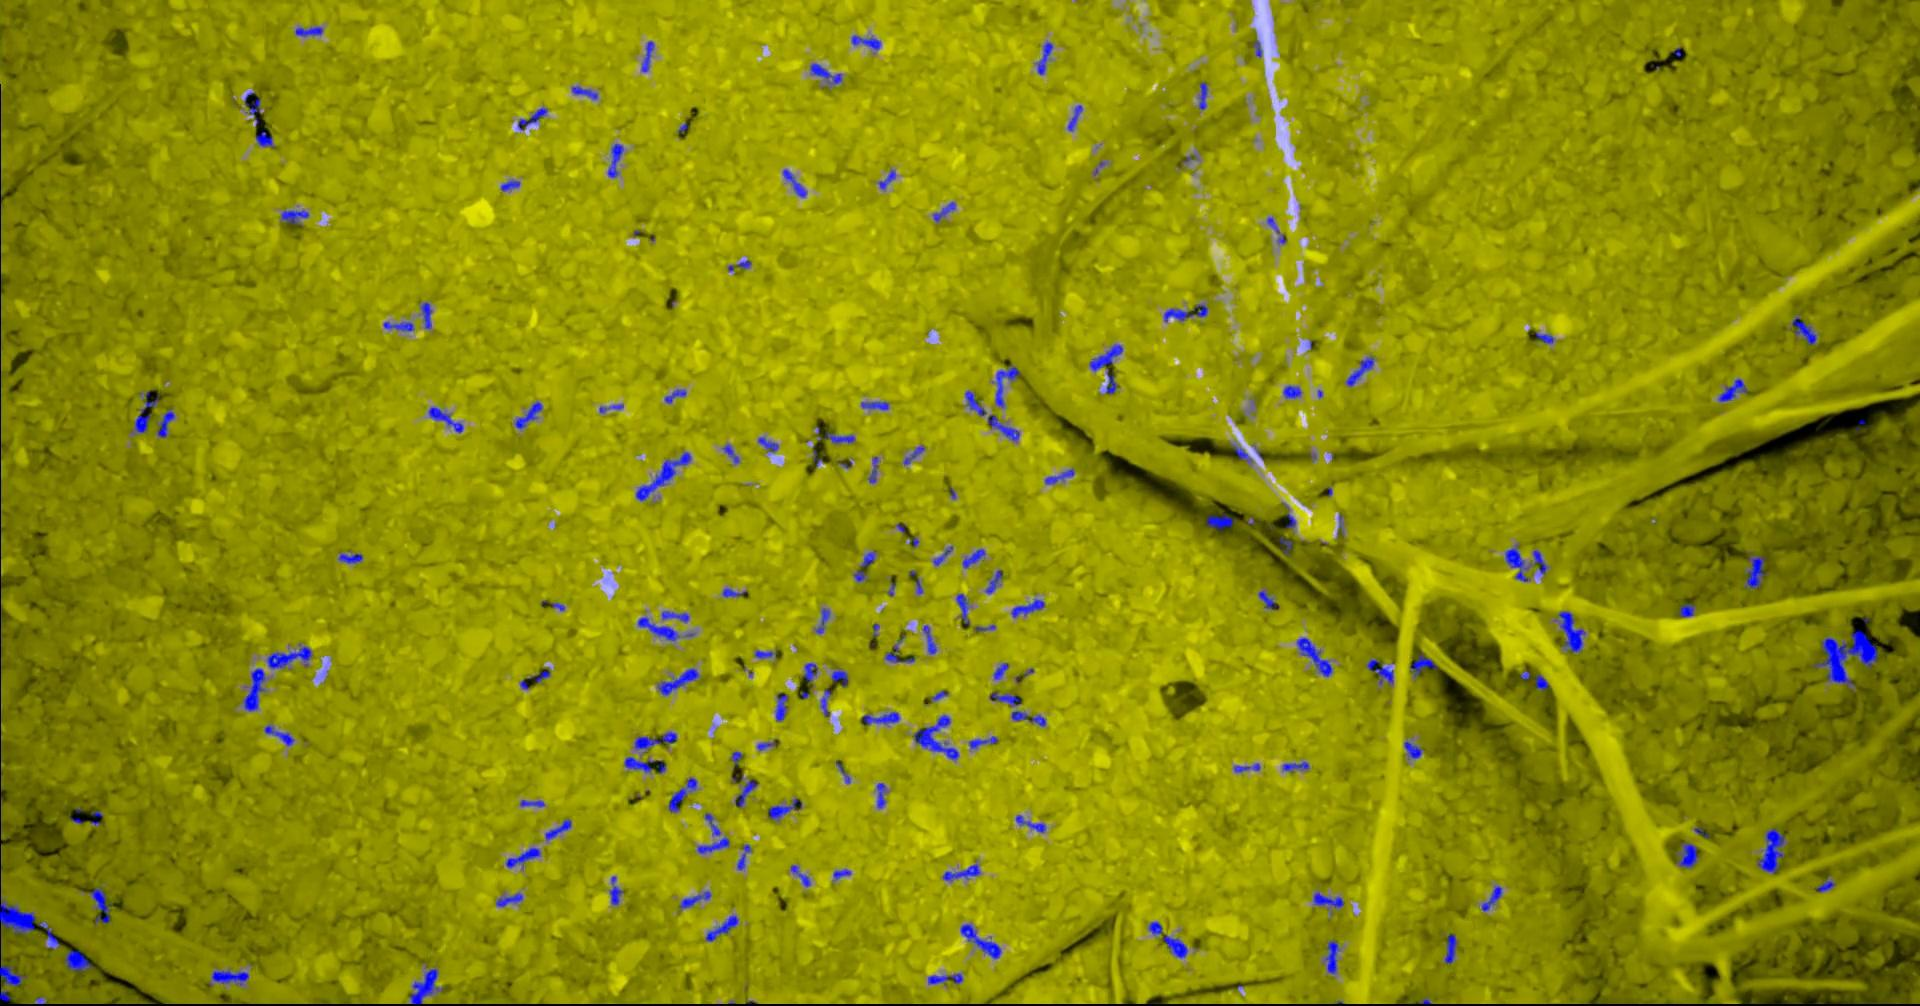ant: (964, 390, 1018, 439), (635, 451, 690, 500), (913, 714, 957, 760), (0, 895, 36, 948), (1297, 636, 1332, 676), (960, 923, 1001, 958), (409, 968, 443, 1005), (1756, 828, 1784, 873), (1557, 610, 1585, 652), (657, 668, 698, 695), (265, 647, 312, 668), (243, 668, 265, 711), (135, 391, 159, 432), (996, 365, 1018, 406), (637, 617, 679, 640), (668, 777, 696, 812), (427, 406, 463, 432), (1503, 544, 1529, 580), (1345, 354, 1374, 386), (634, 730, 676, 752), (1090, 344, 1123, 371), (705, 915, 737, 941), (0, 951, 25, 984), (884, 635, 914, 662), (942, 860, 979, 882), (1163, 304, 1208, 321), (1743, 554, 1766, 588), (514, 401, 542, 429), (90, 887, 110, 923), (623, 756, 665, 774), (768, 798, 801, 819), (1790, 316, 1816, 344), (1410, 652, 1437, 677), (517, 107, 547, 130), (505, 847, 540, 868), (1366, 658, 1393, 683), (782, 169, 806, 197), (1718, 379, 1747, 401), (853, 550, 875, 580), (734, 779, 757, 807), (264, 724, 293, 746), (1011, 598, 1044, 617), (809, 64, 841, 83), (678, 890, 711, 908), (1162, 934, 1187, 956), (1675, 841, 1697, 868), (543, 819, 571, 840), (63, 950, 91, 970), (1011, 710, 1045, 727), (519, 669, 549, 688), (244, 91, 260, 124), (607, 144, 623, 177), (696, 837, 729, 854), (1266, 216, 1286, 243), (1015, 814, 1045, 832), (1481, 885, 1501, 911), (211, 970, 248, 984), (39, 921, 58, 948), (1036, 41, 1051, 74), (157, 406, 174, 437), (961, 547, 985, 568), (861, 711, 899, 724), (1044, 467, 1073, 484), (932, 201, 955, 221), (790, 864, 810, 887), (1313, 892, 1343, 907), (1205, 513, 1233, 530), (1324, 940, 1338, 973), (851, 34, 880, 50), (955, 593, 969, 625), (281, 210, 309, 225), (922, 624, 936, 654), (989, 691, 1018, 705), (610, 875, 623, 904), (927, 973, 963, 984), (1067, 104, 1082, 130), (824, 431, 855, 443), (933, 545, 952, 565), (1403, 741, 1423, 760), (903, 446, 924, 464), (703, 812, 720, 835), (495, 892, 522, 906), (968, 735, 997, 748), (1444, 934, 1457, 963), (1531, 550, 1547, 574), (985, 569, 1001, 593), (641, 39, 653, 71), (1258, 589, 1277, 608), (757, 436, 778, 452), (571, 85, 597, 99), (815, 607, 829, 633), (775, 692, 787, 720), (737, 843, 750, 869), (877, 169, 895, 188), (662, 610, 688, 622), (255, 131, 276, 147), (1230, 445, 1251, 461), (723, 445, 739, 464), (1815, 875, 1835, 890), (1105, 368, 1117, 392), (664, 389, 686, 403), (383, 321, 413, 332), (295, 25, 323, 36), (1197, 81, 1208, 109), (820, 688, 830, 716), (830, 669, 847, 686), (420, 301, 430, 328), (867, 456, 877, 483), (1677, 602, 1695, 617), (993, 662, 1008, 680), (803, 662, 817, 681), (728, 259, 750, 271), (1279, 535, 1291, 555), (1283, 761, 1308, 771), (338, 553, 362, 563), (1534, 673, 1548, 690), (1283, 385, 1300, 398), (1233, 763, 1258, 772), (876, 782, 885, 808), (1534, 332, 1553, 343), (860, 401, 888, 409), (70, 807, 83, 823), (723, 588, 745, 597), (832, 869, 850, 880), (1148, 921, 1162, 935), (500, 180, 519, 191), (519, 799, 543, 807), (90, 810, 102, 826), (754, 650, 775, 658), (0, 987, 10, 1001), (0, 605, 1, 657)
